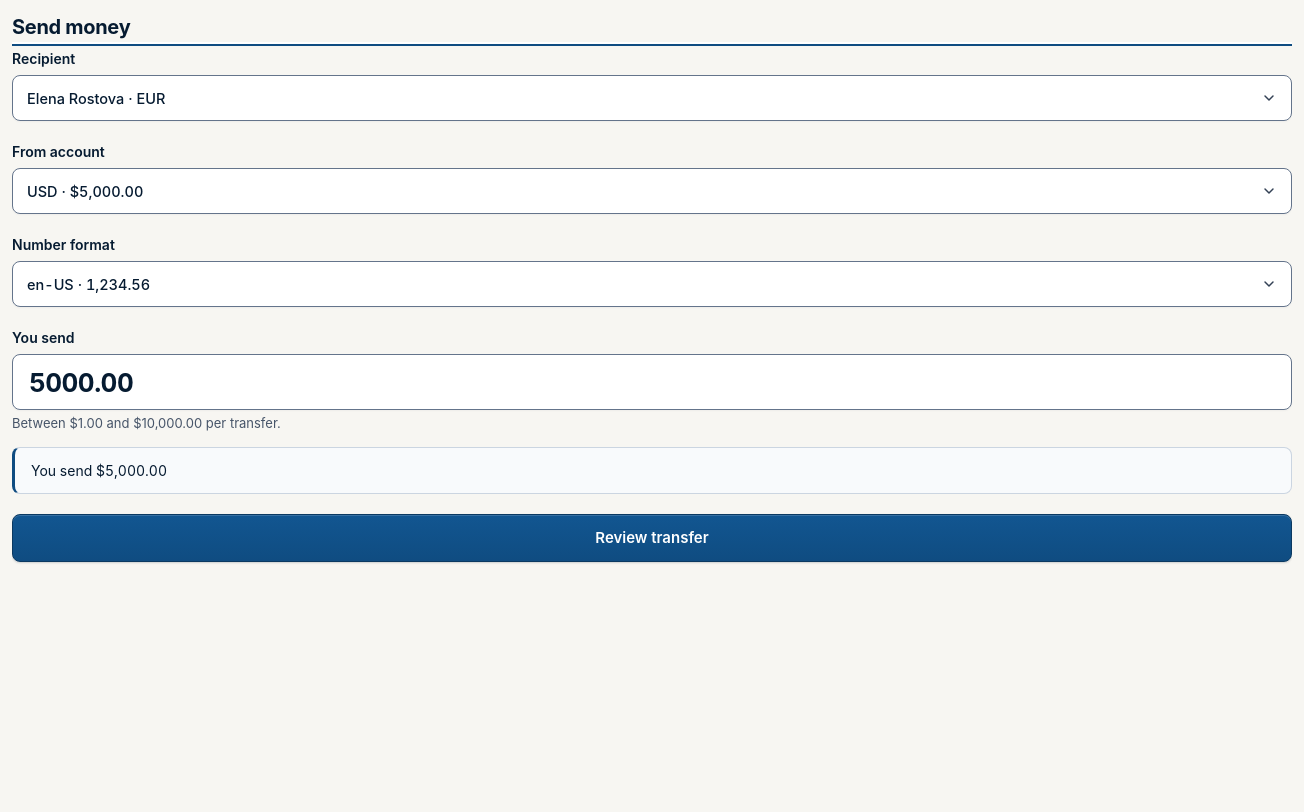
Test: SendForm (FORM-01..FORM-06) › FORM-05: insufficient funds including fee rejects transfer without requesting quote
Click the button "Review transfer" at [652, 538], box [12,514,1292,562]
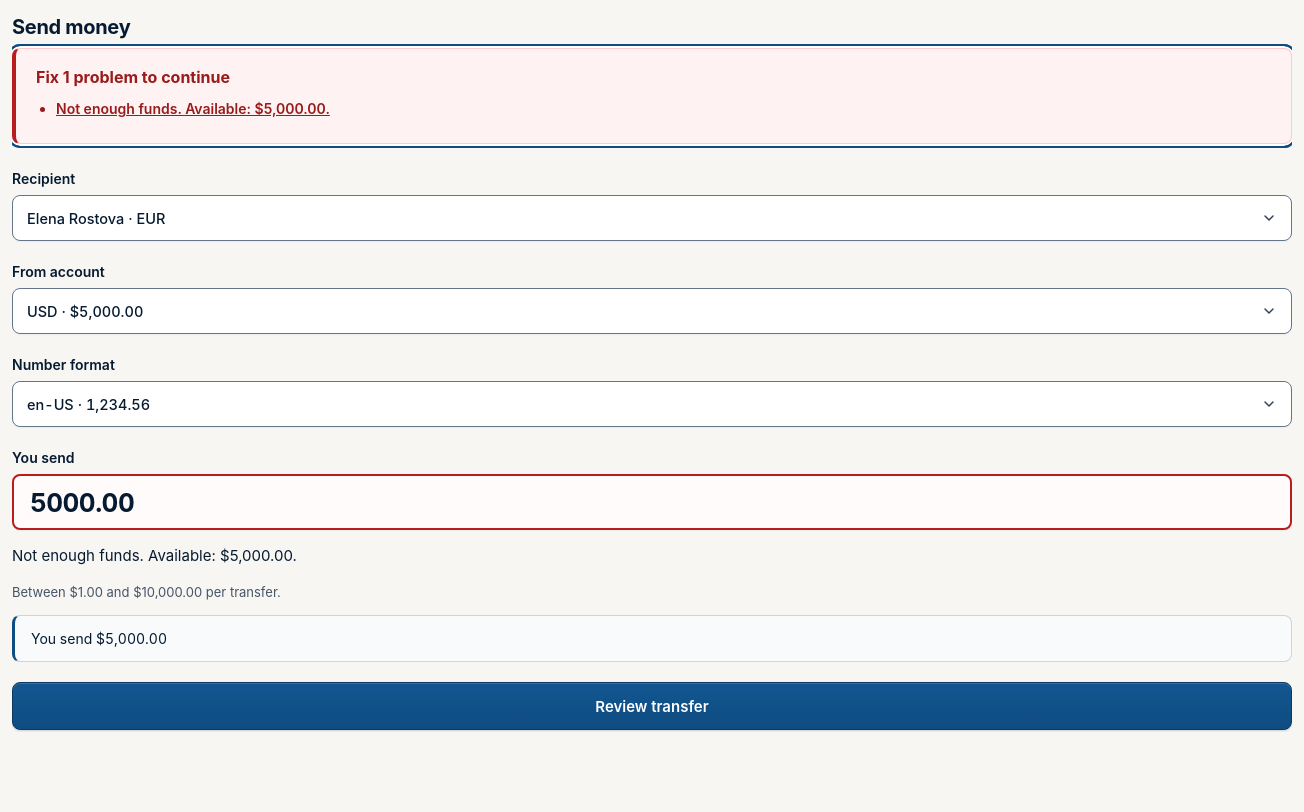
Expected: the message "Fix 1 problem to continue Not enough funds. Available: $5,000.00." is shown, [12,48,1292,144]
Expected: the message shows "Fix 1 problem to continue", [36,67,230,87]
Expected: the message shows "Not enough funds. Available: $5,000.00.", [56,97,330,121]
